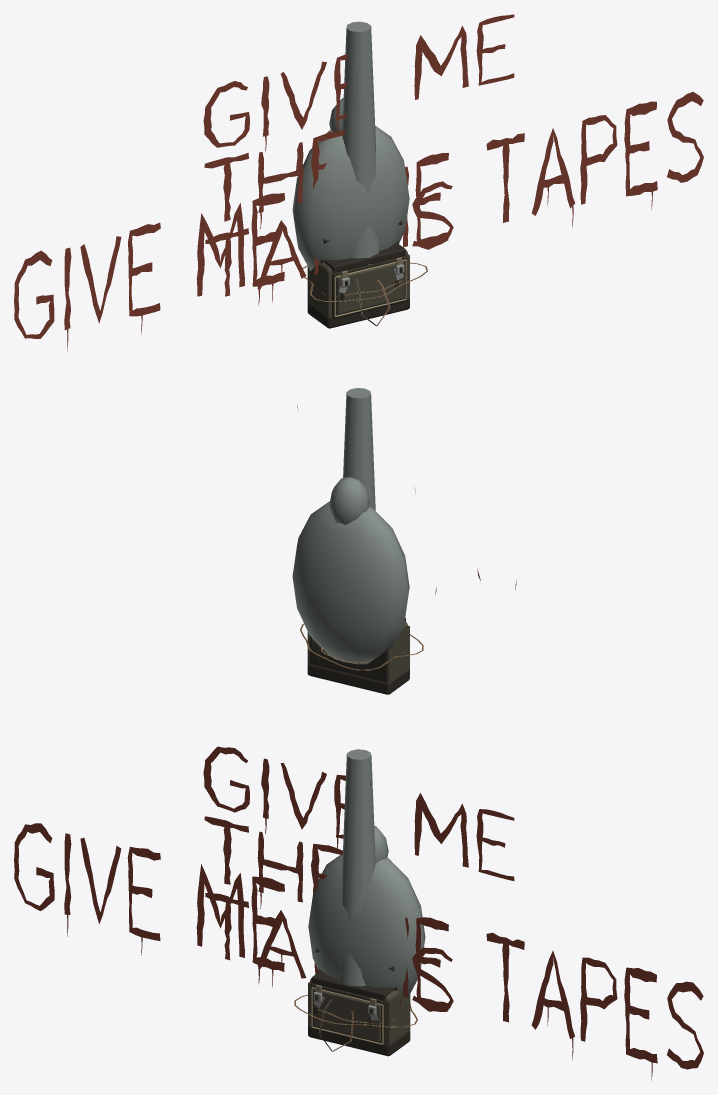
The model's file is chapel-tape-demand.glb.
3 renders of one model, top to bottom at view 1: azimuth 30°, elevation 25°; view 2: azimuth 150°, elevation 25°; view 3: azimuth 330°, elevation 25°, orthographic.
Parts seen in each view (by area): view 1: tape_demand_paint_line, tape_demand_receiver_torso, tape_demand_paint_block, tape_demand_field_case, tape_demand_receiver_sleeve, tape_demand_field_case_broken; view 2: tape_demand_receiver_torso, tape_demand_receiver_sleeve, tape_demand_field_case, tape_demand_field_case_broken; view 3: tape_demand_paint_line, tape_demand_receiver_torso, tape_demand_paint_block, tape_demand_receiver_sleeve, tape_demand_field_case, tape_demand_field_case_broken.
Part boxes in pixels (<box>): tape_demand_paint_line: <box>14,92,703,351</box>; tape_demand_receiver_torso: <box>292,98,409,270</box>; tape_demand_paint_block: <box>203,14,514,305</box>; tape_demand_field_case: <box>307,242,409,328</box>; tape_demand_receiver_sleeve: <box>342,21,378,264</box>; tape_demand_field_case_broken: <box>307,220,409,327</box>; tape_demand_receiver_torso: <box>292,477,409,664</box>; tape_demand_receiver_sleeve: <box>343,388,375,510</box>; tape_demand_field_case: <box>307,617,409,694</box>; tape_demand_field_case_broken: <box>307,625,409,693</box>; tape_demand_paint_line: <box>14,823,703,1080</box>; tape_demand_receiver_torso: <box>308,826,425,998</box>; tape_demand_paint_block: <box>203,746,514,1011</box>; tape_demand_receiver_sleeve: <box>339,749,375,992</box>; tape_demand_field_case: <box>308,970,410,1056</box>; tape_demand_field_case_broken: <box>308,947,410,1046</box>.
Bounding box in the file's own units: 2.84 × 1.12 × 0.3711.
